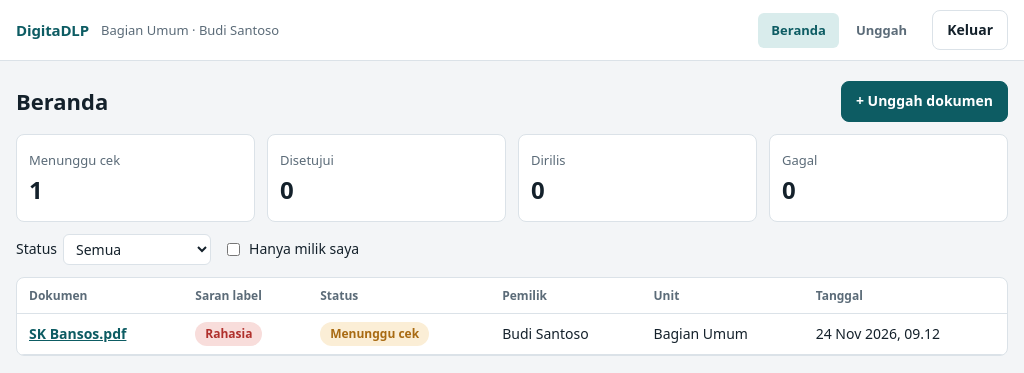
row click opens review
Click the link "SK Bansos.pdf": (78,333) [29,324,126,343]
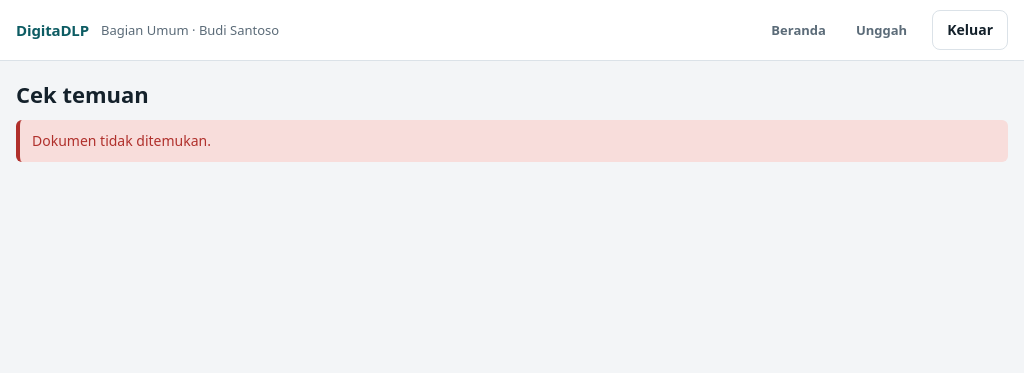
expect the heading "Cek temuan" is shown: met, box [16,79,149,109]
